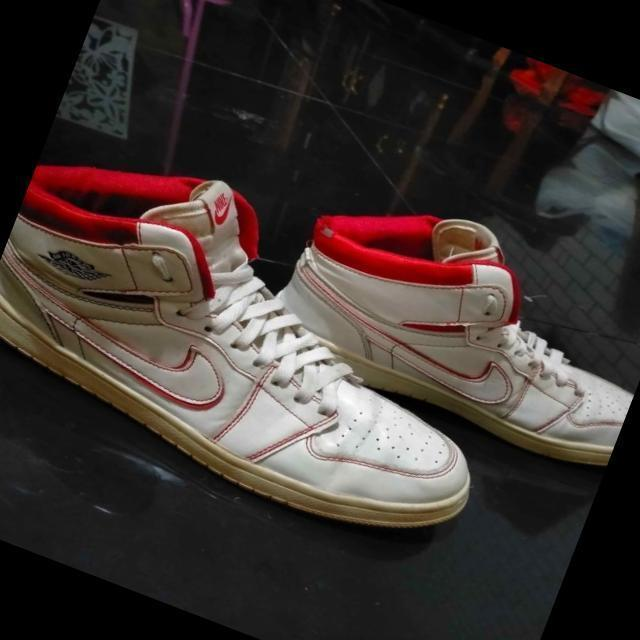nike fake jordan 1: (0, 112, 548, 568), (245, 160, 640, 483)
